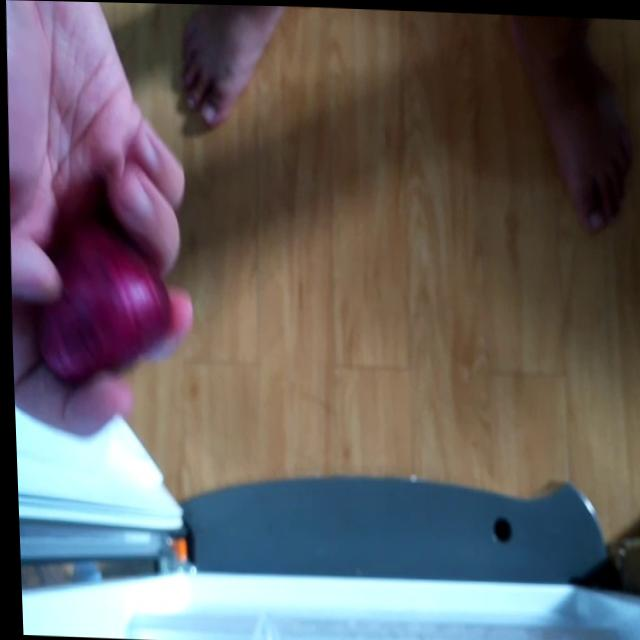onion: (16, 206, 175, 390)
